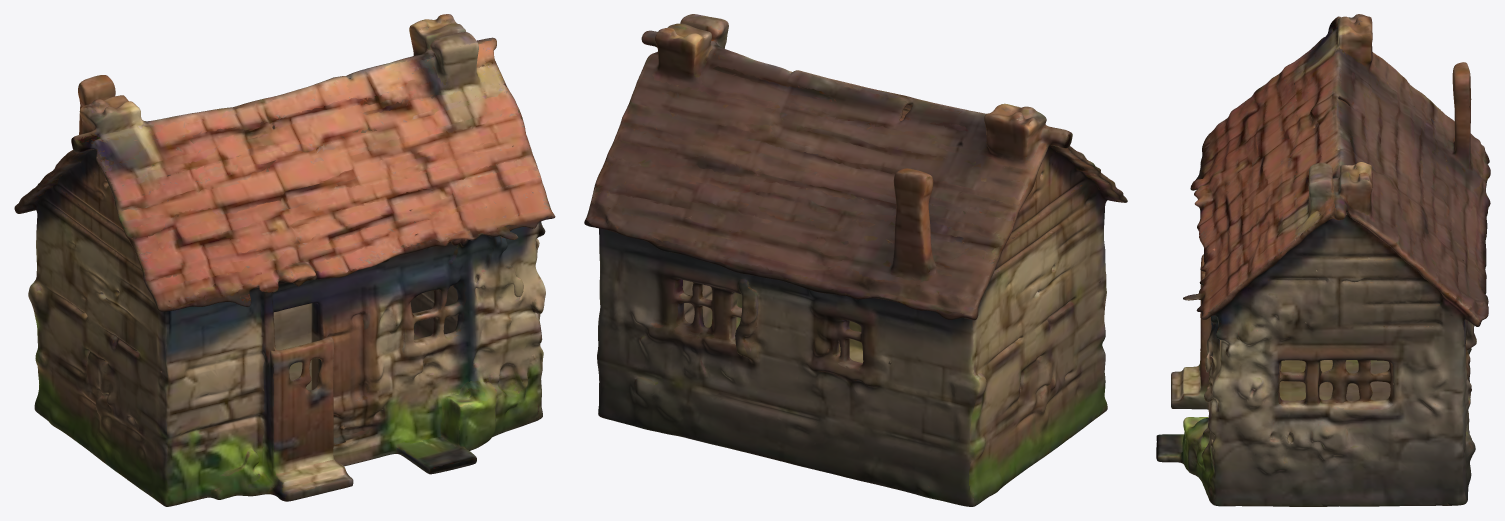
Rendered from building16.glb.
3 views of the same model, side by side, from view 1: azimuth 30°, elevation 25°; view 2: azimuth 150°, elevation 25°; view 3: azimuth 270°, elevation 25° (orthographic). The views are drawn at different scales.
Bounding box in the file's own units: 2 × 1.57 × 1.47.
Materials: 1 (1 with a texture image).
